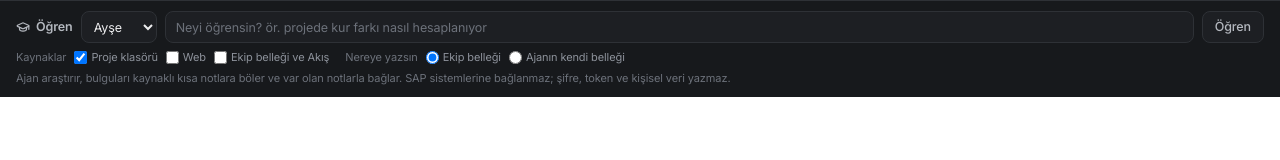
Test case: Öğren kutusu › boş konu ve kaynaksız görev gönderilmez, sebep yazılır
The width and height of the screenshot is (1280, 160).
Submit the form named "Öğrenme konusu", box 16,11 -> 1264,43
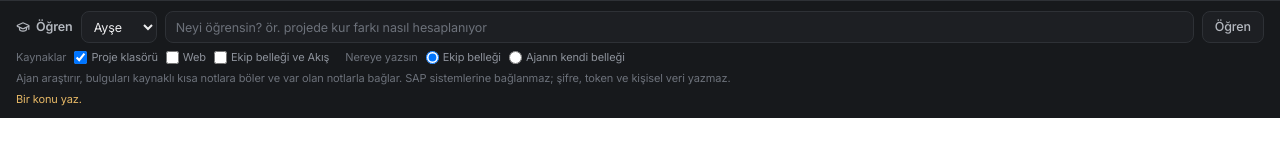
Expected: the message reads "Bir konu yaz.", 16,92 -> 82,106
Click the checkbox labelled "Proje klasörü": x=81, y=57 74,51 -> 87,64
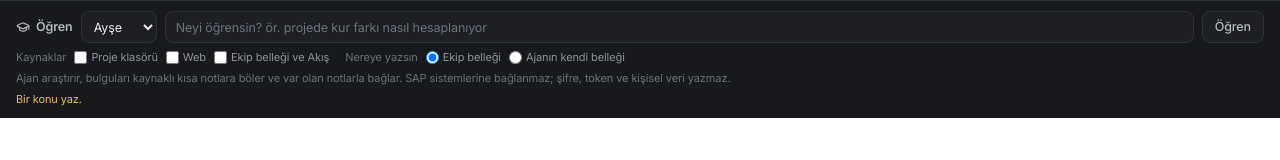
In the field named "Öğrenme konusu": x=679, y=27 165,11 -> 1194,43, type "x"
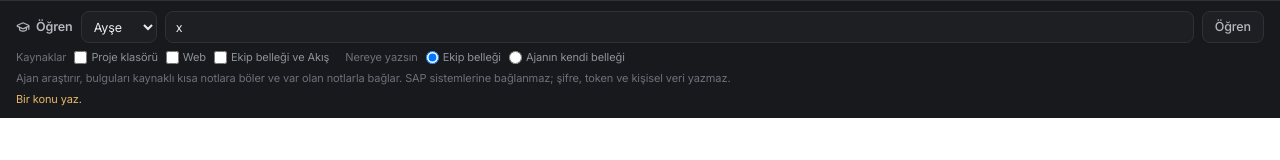
Press Enter in the field named "Öğrenme konusu", box 165,11 -> 1194,43
Submit the form named "Öğrenme konusu", box 16,11 -> 1264,43
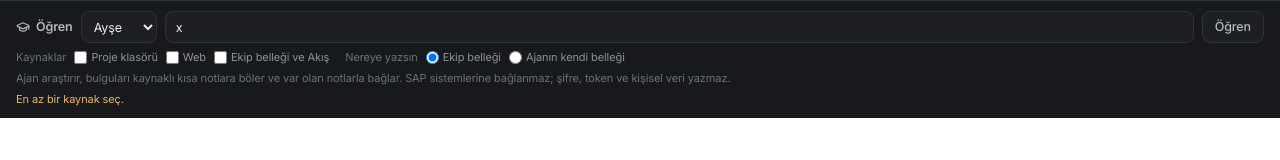
Expected: the message reads "En az bir kaynak seç.", 16,92 -> 124,106
